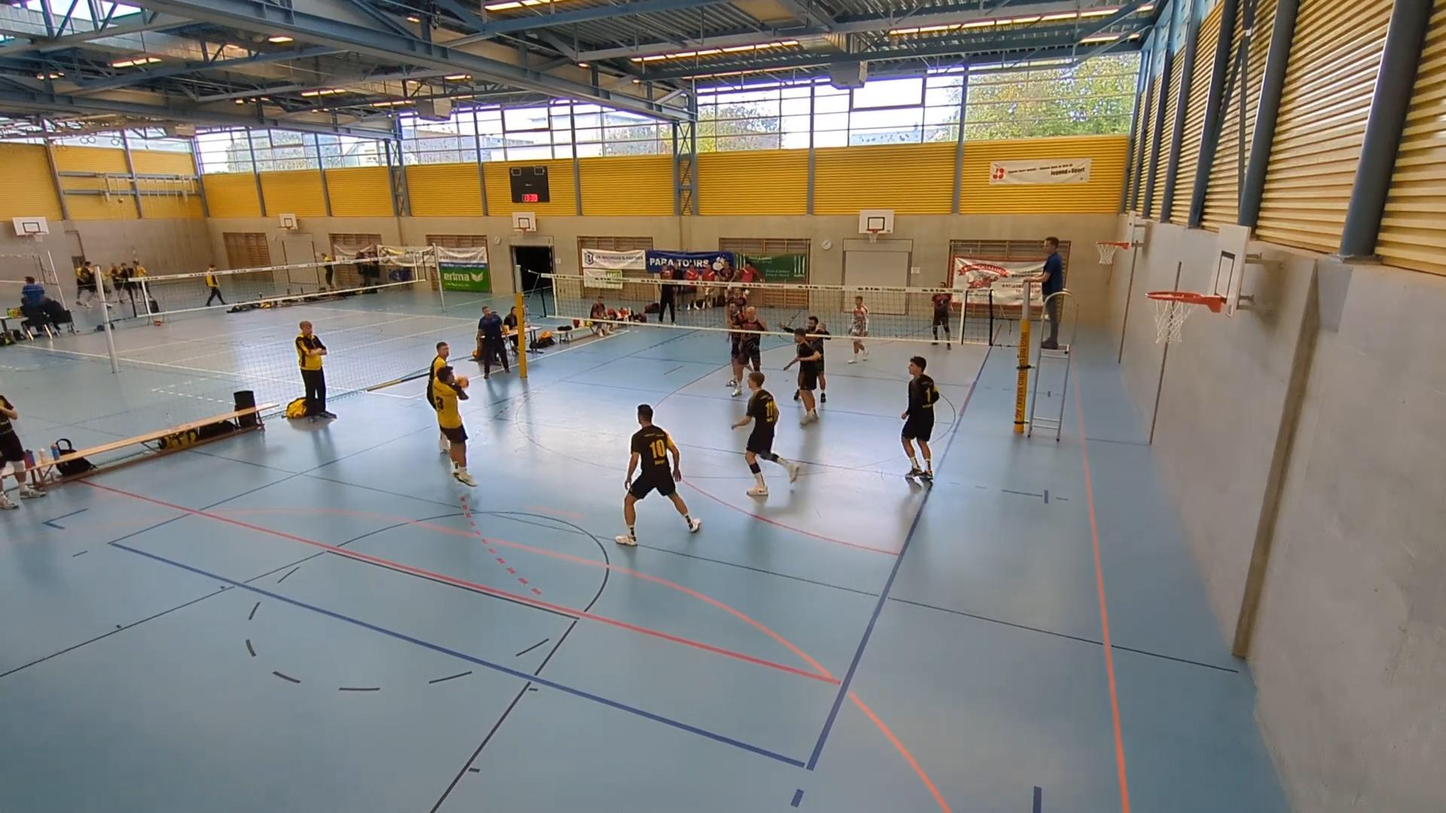Player: (615, 404, 700, 545), (733, 372, 801, 496), (901, 356, 938, 480), (784, 327, 821, 425), (731, 306, 766, 396), (725, 288, 747, 387), (807, 315, 830, 403), (848, 297, 868, 363), (426, 342, 449, 398), (931, 291, 952, 348)
Receive: (433, 364, 473, 488)
ball: (454, 371, 476, 392)
